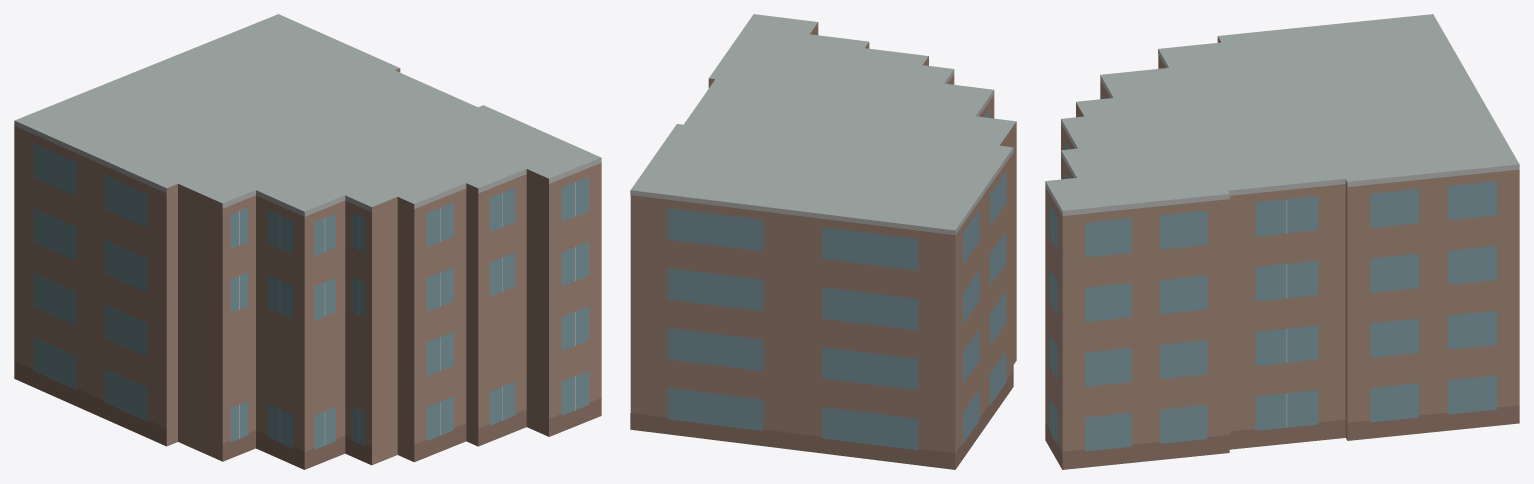
The model's file is survey-upis-32813362.glb.
The picture shows the model from 3 angles, left to right: view 1: azimuth 30°, elevation 25°; view 2: azimuth 150°, elevation 25°; view 3: azimuth 270°, elevation 25°; orthographic projection. The views are drawn at different scales.
Visible parts, largest first — view 1: survey-upis-32813362.tmp; view 2: survey-upis-32813362.tmp; view 3: survey-upis-32813362.tmp.
Part boxes in pixels (<box>): survey-upis-32813362.tmp: <box>14,14,601,469</box>; survey-upis-32813362.tmp: <box>630,14,1016,469</box>; survey-upis-32813362.tmp: <box>1045,14,1519,469</box>.
Bounding box in the file's own units: 19.91 × 12.2 × 20.26.
